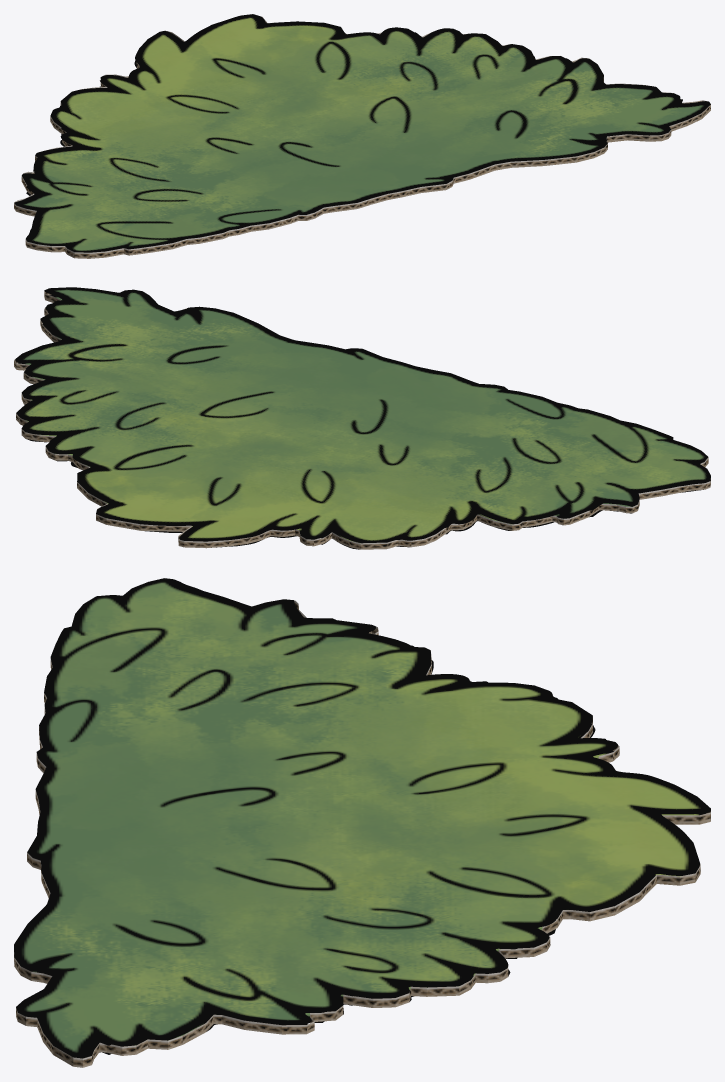
File: sprite_bush.fbx
3 views of the same model, one above another, from view 1: azimuth 30°, elevation 25°; view 2: azimuth 150°, elevation 25°; view 3: azimuth 270°, elevation 25° (orthographic). The views are drawn at different scales.
Visible parts, largest first — view 1: Cube; view 2: Cube; view 3: Cube.
Boxes of the visible parts, bbox=[...] form: Cube: bbox=[14, 14, 710, 258]; Cube: bbox=[14, 287, 710, 549]; Cube: bbox=[14, 578, 710, 1067].
Bounding box in the file's own units: 442 × 4 × 271.
